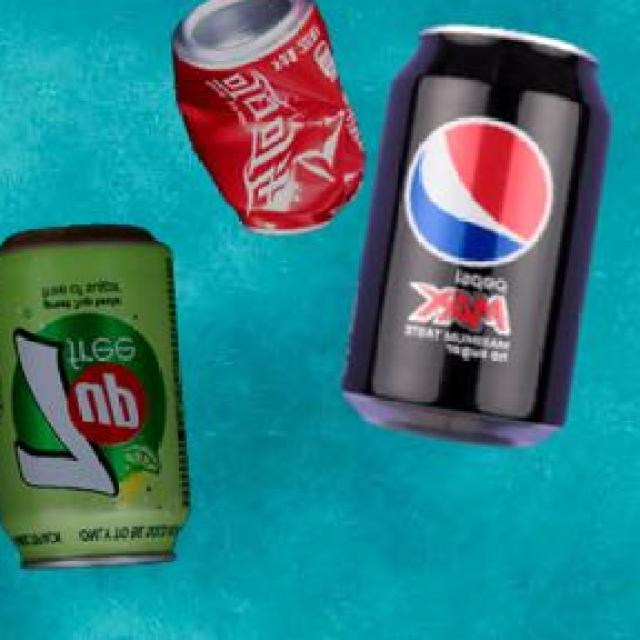logam: (346, 23, 614, 443), (0, 221, 192, 566), (174, 0, 368, 232)
